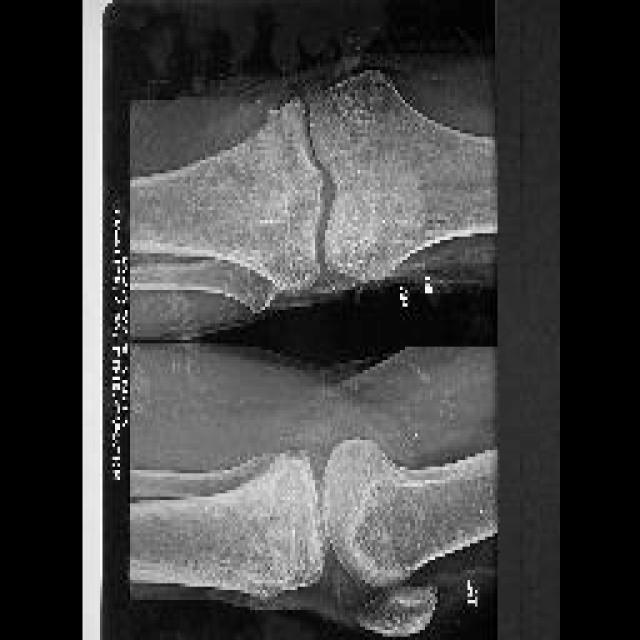bone-cancer: (221, 540, 286, 599)
